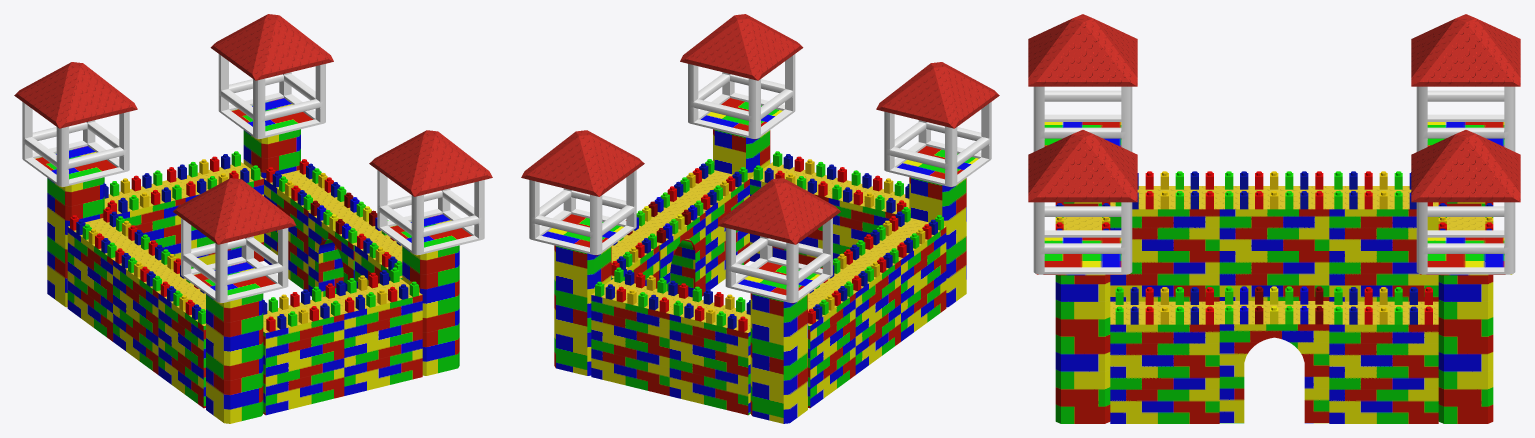
The model's file is Fortress.FBX.
3 views of the same model, side by side, from view 1: azimuth 30°, elevation 25°; view 2: azimuth 150°, elevation 25°; view 3: azimuth 270°, elevation 25° (orthographic). The views are drawn at different scales.
Parts seen in each view (by area): view 1: Box001 (×3), Box009, Box004, Box003, Box007, Box008, Box010, Box012, Box011, Box002, Box006, Box005; view 2: Box001 (×3), Box004, Box003, Box009, Box005, Box006, Box011, Box012, Box010, Box008, Box007, Box002; view 3: Box001 (×3), Box003, Box002, Box012, Box004, Box009, Box010, Box011, Box006, Box008.
Part boxes in pixels (<box>): Box001 (×3): <box>308,130,492,375</box>; Box009: <box>173,178,296,423</box>; Box004: <box>14,62,137,307</box>; Box003: <box>210,14,333,178</box>; Box007: <box>322,267,422,395</box>; Box008: <box>263,286,344,415</box>; Box010: <box>67,207,149,341</box>; Box012: <box>113,240,192,374</box>; Box011: <box>158,281,205,408</box>; Box002: <box>264,159,346,290</box>; Box006: <box>104,170,185,259</box>; Box005: <box>163,151,263,268</box>; Box001 (×3): <box>625,14,803,297</box>; Box004: <box>717,178,840,423</box>; Box003: <box>521,130,644,375</box>; Box009: <box>876,62,999,307</box>; Box005: <box>591,267,691,395</box>; Box006: <box>669,286,750,415</box>; Box011: <box>864,207,946,341</box>; Box012: <box>821,240,900,374</box>; Box010: <box>808,281,855,408</box>; Box008: <box>828,170,909,259</box>; Box007: <box>750,151,850,268</box>; Box002: <box>611,233,659,288</box>; Box001 (×3): <box>1028,130,1329,423</box>; Box003: <box>1411,130,1520,423</box>; Box002: <box>1329,287,1438,423</box>; Box012: <box>1219,171,1329,300</box>; Box004: <box>1411,14,1520,206</box>; Box009: <box>1028,14,1137,206</box>; Box010: <box>1329,171,1438,301</box>; Box011: <box>1110,171,1219,301</box>; Box006: <box>1438,202,1493,230</box>; Box008: <box>1055,202,1110,230</box>.
Bounding box in the file's own units: 70 × 56.16 × 90.
12 materials, 3 textured.
